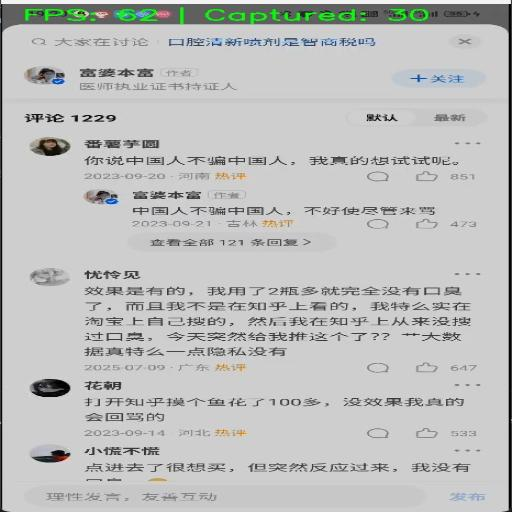close: (446, 31, 495, 54)
input: (27, 484, 429, 508), (28, 31, 163, 50)
